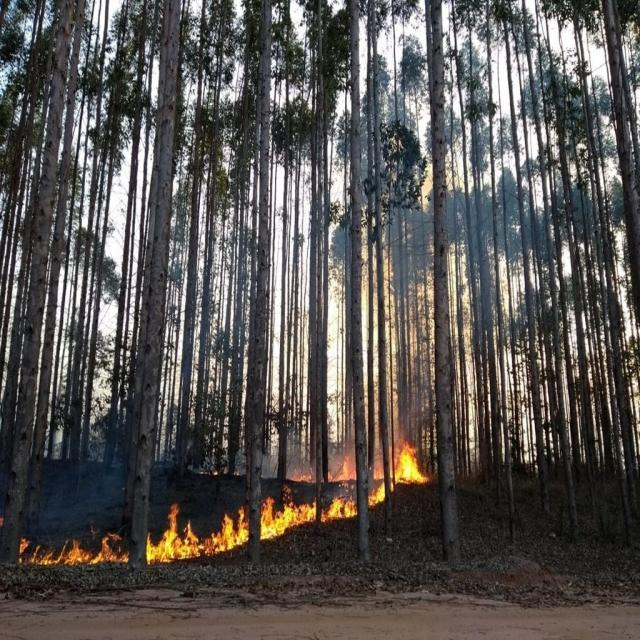Fire: (146, 500, 250, 564), (18, 526, 130, 568), (260, 483, 316, 541), (320, 456, 358, 524), (390, 441, 430, 494), (369, 478, 385, 508)
Smoke: (262, 426, 384, 504)
